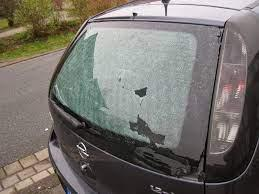Rear-windscreen-Damage: (37, 12, 230, 145)
